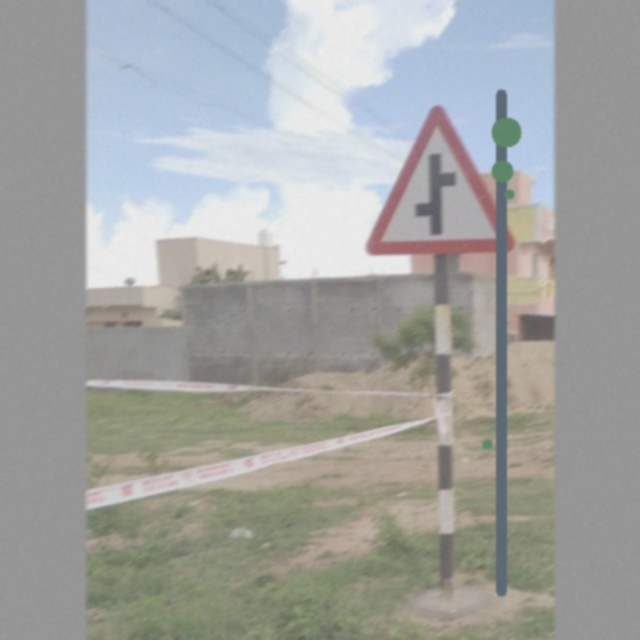Staggered_Intersection: (372, 94, 518, 254)
